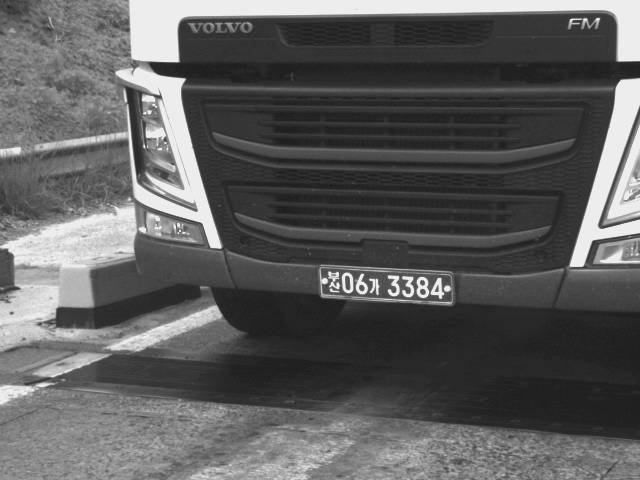car: (115, 1, 640, 354)
plate: (319, 265, 455, 306)
